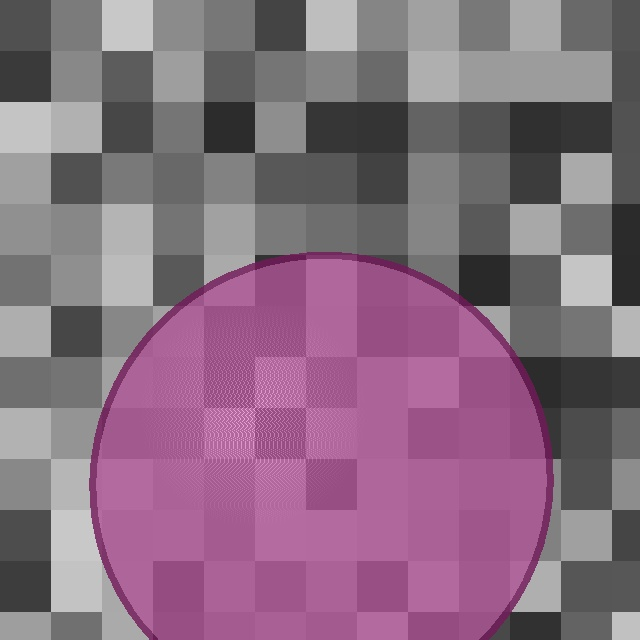lens: (93, 255, 549, 640)
